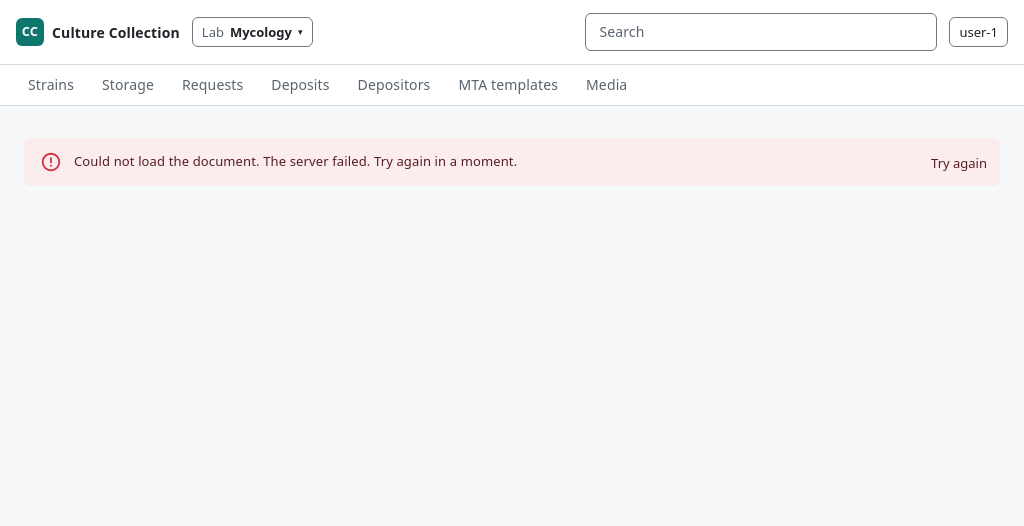
a document of a shipment › offers a retry when the document fails to load
Expected: the text "Could not load the document" is shown, [74,152,517,170]
Click the button "Try again" at point(959, 163), box [926,148,992,179]
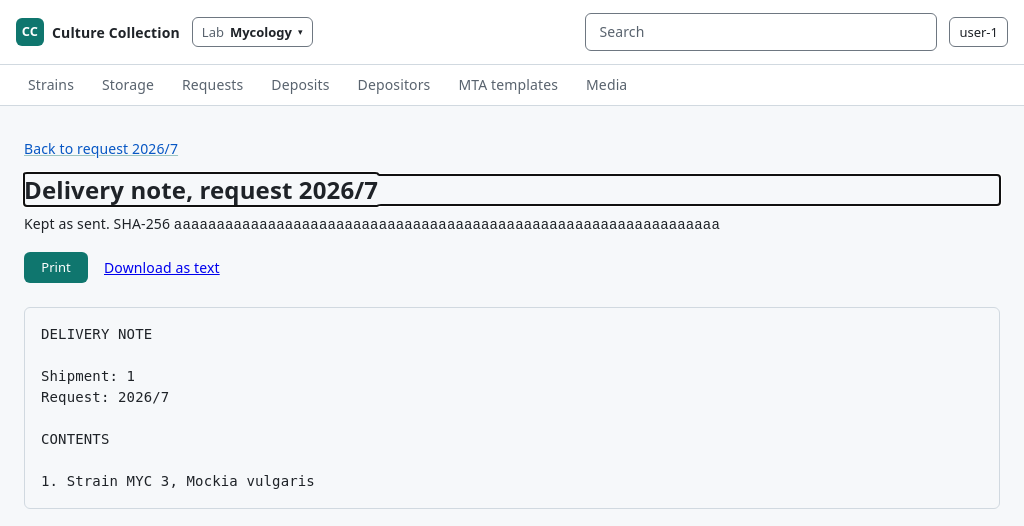
Expected: the text named "Document text" is shown, [24,307,1000,509]
